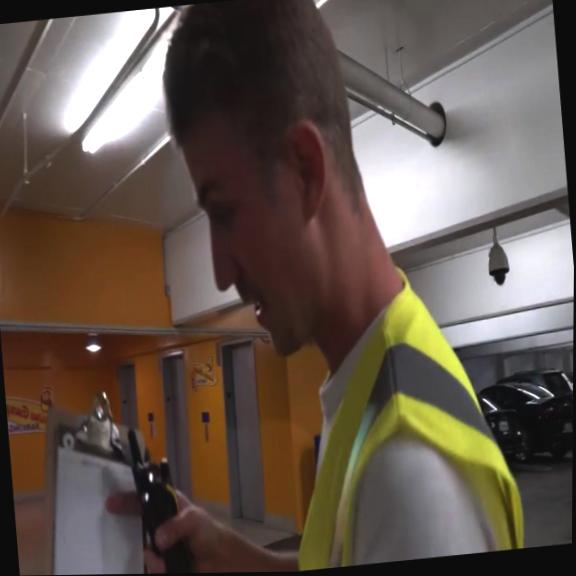safety_vest: (273, 255, 531, 572)
